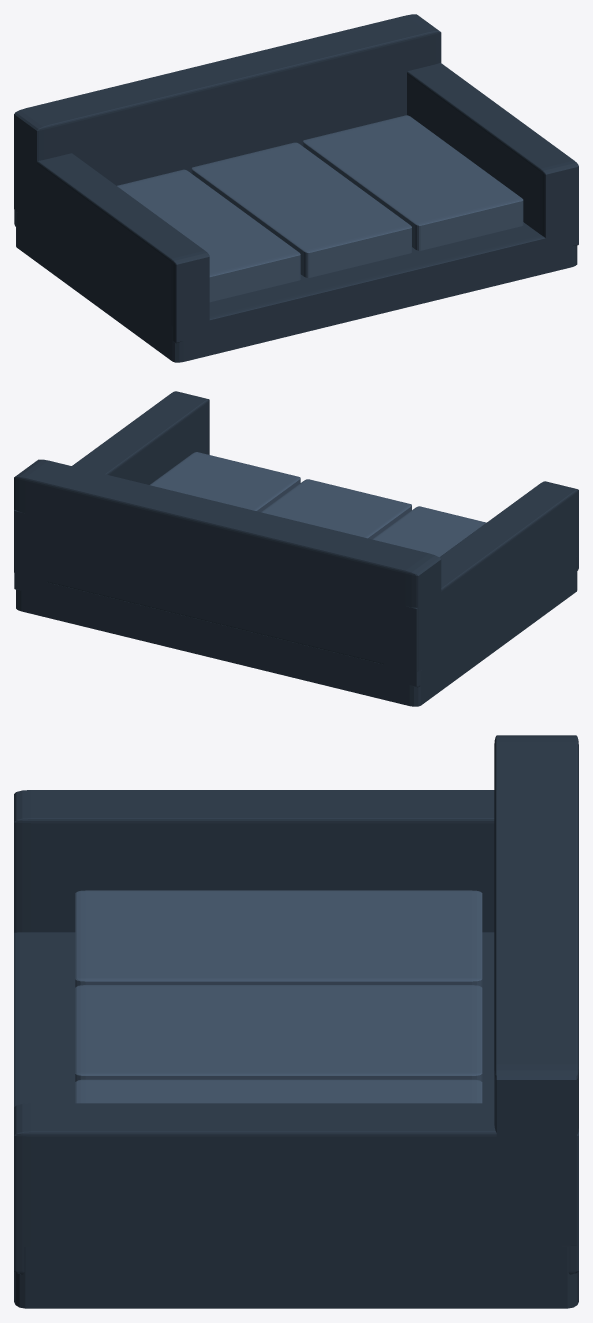
Rendered from sofa_corner.glb.
3 renders of one model, top to bottom at view 1: azimuth 30°, elevation 25°; view 2: azimuth 150°, elevation 25°; view 3: azimuth 270°, elevation 25°, orthographic. The views are drawn at different scales.
Visible parts, largest first — view 1: Cube.001, Cube, Cube.002, Cube.006, Cube.005, Cube.003, Cube.004; view 2: Cube.001, Cube, Cube.002, Cube.003, Cube.006, Cube.005, Cube.004; view 3: Cube.003, Cube.002, Cube, Cube.001, Cube.004, Cube.005, Cube.006.
Boxes of the visible parts, bbox=[...] form: Cube.001: bbox=[14, 14, 441, 225]; Cube: bbox=[16, 212, 577, 362]; Cube.002: bbox=[14, 153, 209, 343]; Cube.006: bbox=[303, 115, 523, 250]; Cube.005: bbox=[191, 142, 411, 277]; Cube.003: bbox=[407, 63, 578, 252]; Cube.004: bbox=[117, 169, 300, 302]; Cube.001: bbox=[14, 459, 441, 671]; Cube: bbox=[16, 556, 577, 706]; Cube.002: bbox=[383, 481, 578, 687]; Cube.003: bbox=[14, 391, 209, 596]; Cube.006: bbox=[150, 452, 300, 512]; Cube.005: bbox=[261, 479, 411, 539]; Cube.004: bbox=[372, 506, 486, 557]; Cube.003: bbox=[14, 1103, 578, 1274]; Cube.002: bbox=[14, 790, 494, 932]; Cube: bbox=[14, 932, 578, 1308]; Cube.001: bbox=[494, 735, 578, 1245]; Cube.004: bbox=[75, 890, 482, 987]; Cube.005: bbox=[75, 985, 482, 1081]; Cube.006: bbox=[75, 1079, 482, 1103].
Bounding box in the file's own units: 2.3 × 0.755 × 1.6.
